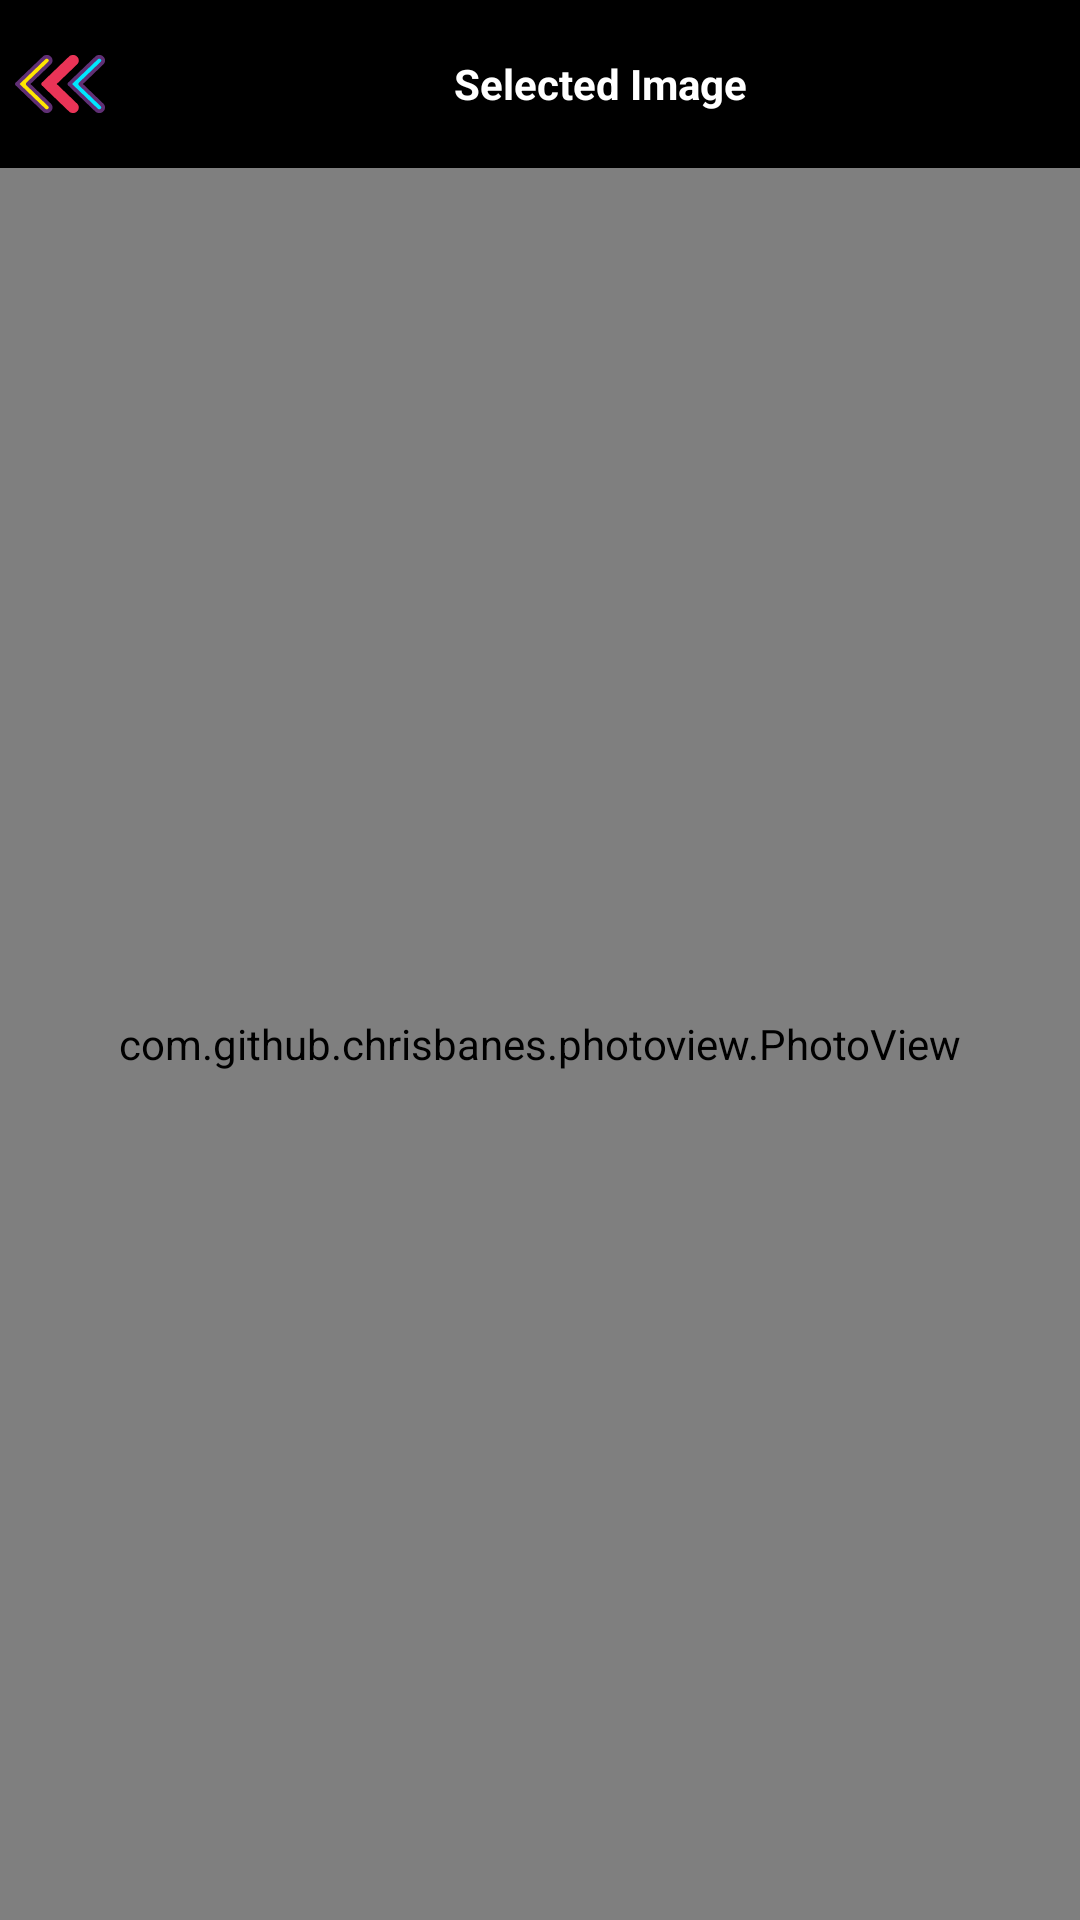

Icon bounding boxes for this 1080w x 1920h phone screenshot, format (x1, y1, x2, y2):
back: (15, 55, 105, 113)
